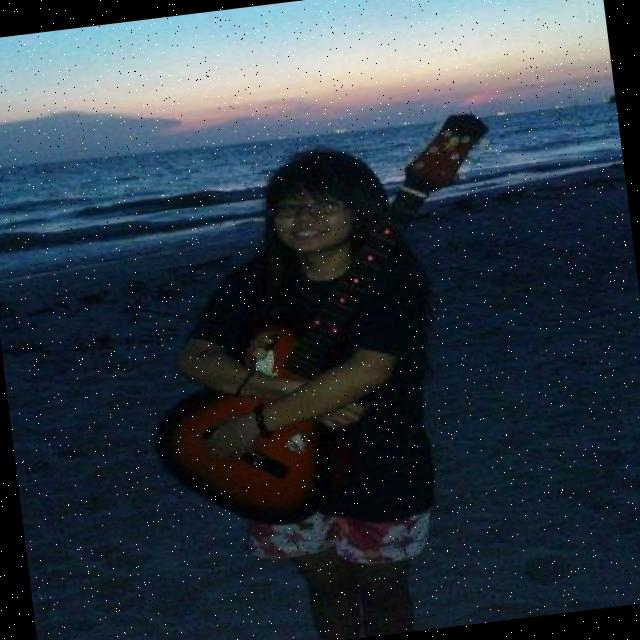guitar: (111, 105, 540, 546)
